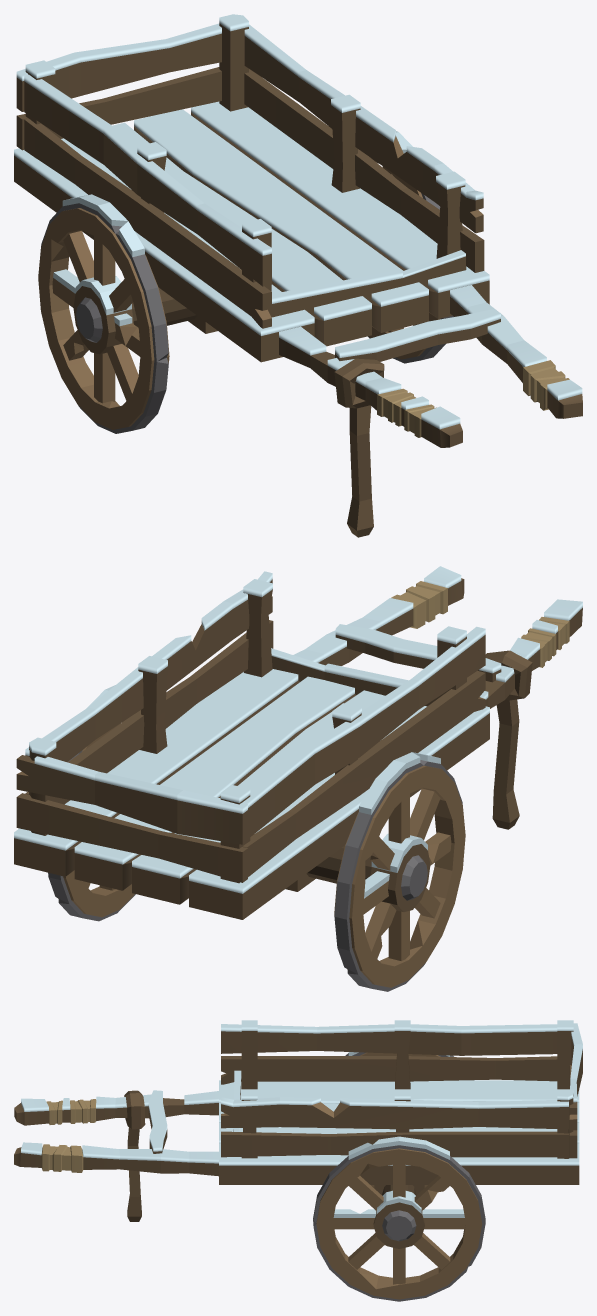
File: SM_Prop_Cart_01_Snow.gltf
The picture shows the model from 3 angles, top to bottom: view 1: azimuth 30°, elevation 25°; view 2: azimuth 150°, elevation 25°; view 3: azimuth 270°, elevation 25°; orthographic projection. The views are drawn at different scales.
Visible parts, largest first — view 1: SM_Prop_Cart_01_Snow; view 2: SM_Prop_Cart_01_Snow; view 3: SM_Prop_Cart_01_Snow.
Boxes of the visible parts, x1,y1,x2,y2 form: SM_Prop_Cart_01_Snow: (14,14,582,537); SM_Prop_Cart_01_Snow: (14,566,582,991); SM_Prop_Cart_01_Snow: (14,1020,582,1301).
Bounding box in the file's own units: 1.52 × 1.17 × 3.15.
Materials: 1 (1 with a texture image).
